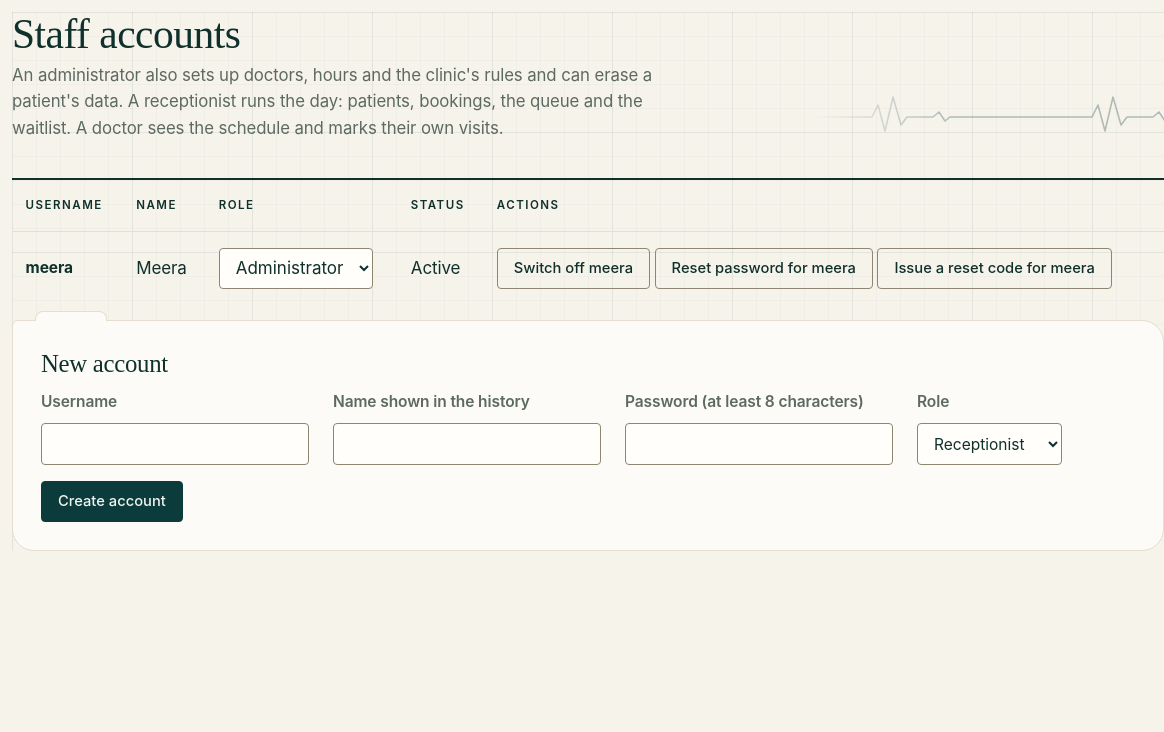
staff accounts › explains why the last administrator cannot be removed
Click the button "Switch off meera".
click(573, 268)  # box [497,248,650,289]
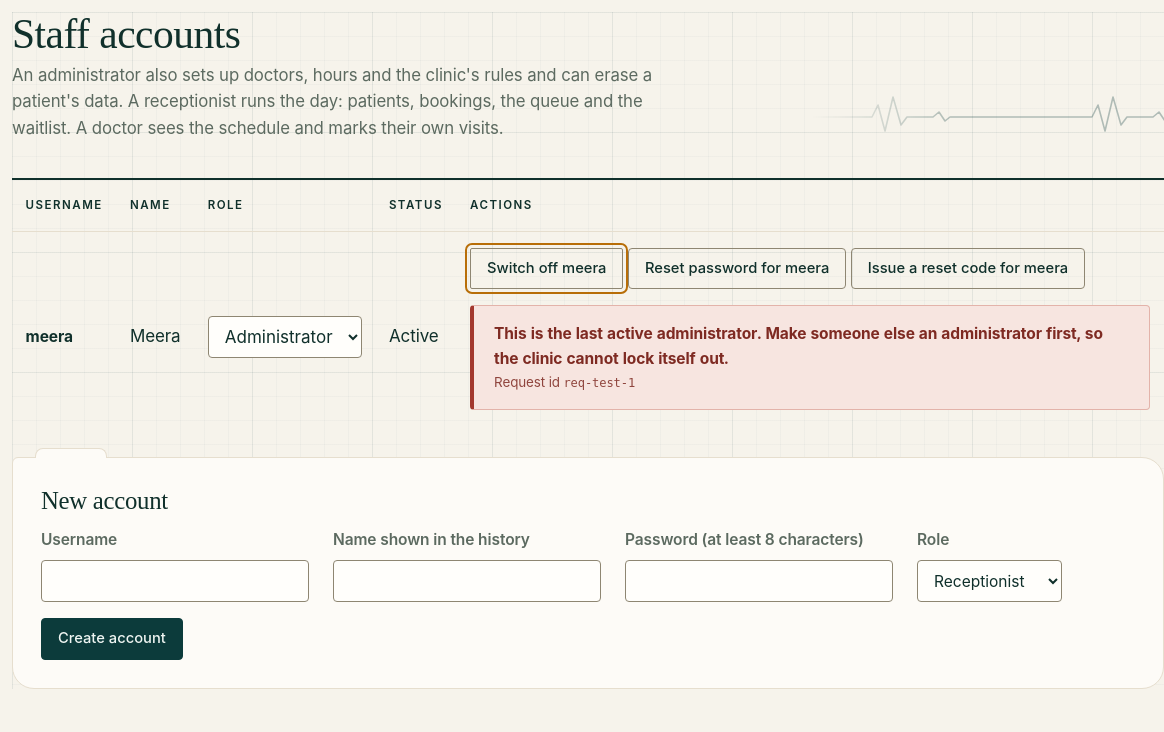
Now the text "last active administrator" is shown, box [494,324,1103,368]
